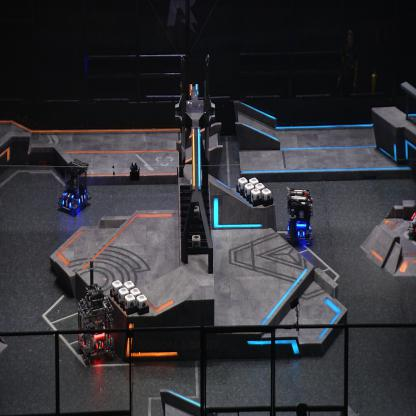car: (76, 284, 116, 362), (58, 156, 92, 214), (287, 184, 313, 244), (408, 193, 416, 240)
